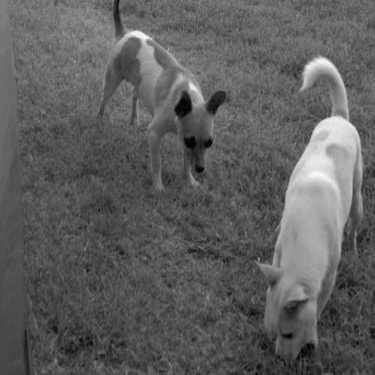dog: (238, 37, 366, 363), (92, 1, 232, 201)
